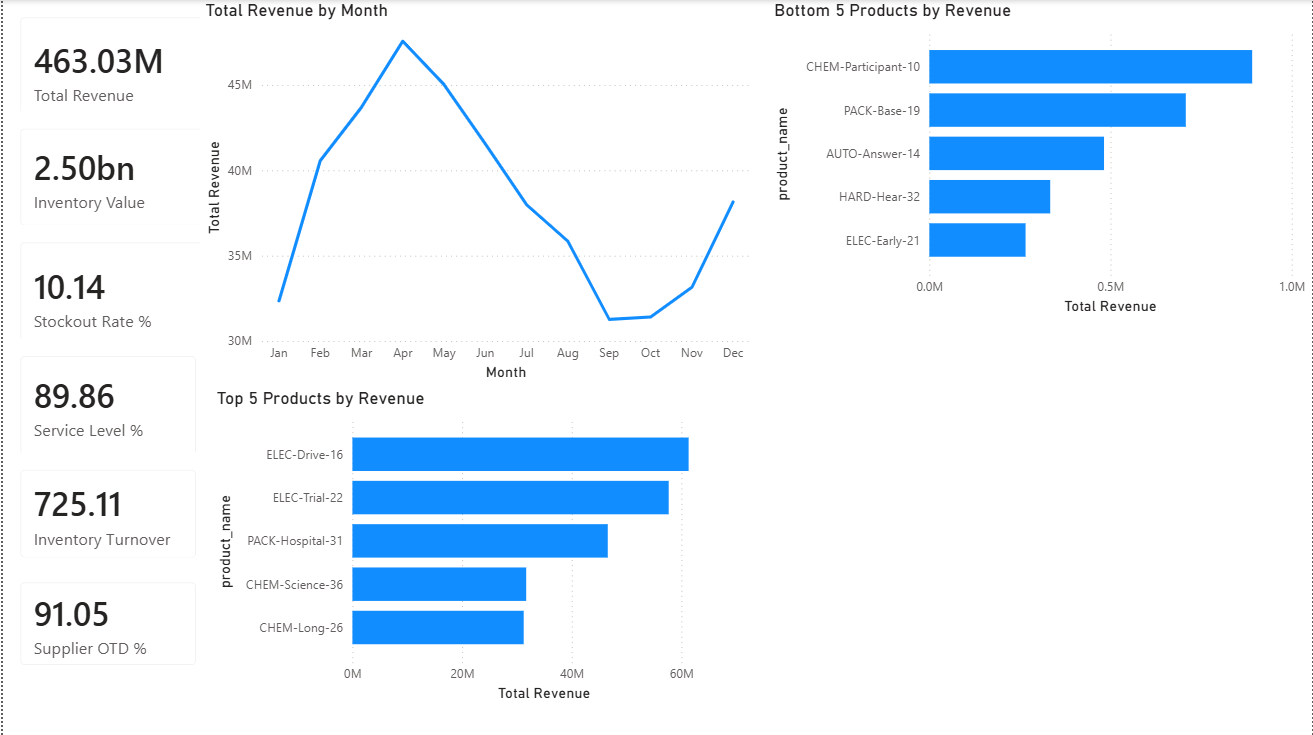

The dashboard page shown, as its layout file describes it:
{"tool":"powerbi","page":{"name":"Executive Overview","canvas":[1280,720],"ordinal":0},"visuals":[{"type":"cardVisual","fields":{"Data":["_Measures.Total Revenue"]},"box":[0,0,220.8,137.6],"z":0},{"type":"cardVisual","fields":{"Data":["_Measures.Inventory Value"]},"box":[0,109.4,220.8,129.6],"z":1000},{"type":"cardVisual","fields":{"Data":["_Measures.Stockout Rate %"]},"box":[0,219.7,221.1,140.6],"z":2000},{"type":"cardVisual","fields":{"Data":["_Measures.Service Level %"]},"box":[0,331,206.5,131.8],"z":3000},{"type":"cardVisual","fields":{"Data":["_Measures.Inventory Turnover"]},"box":[0,442.3,206.5,120.1],"z":4000},{"type":"cardVisual","fields":{"Data":["_Measures.Supplier OTD %"]},"box":[0,552.1,206.5,115.7],"z":5000},{"type":"lineChart","fields":{"Y":["_Measures.Total Revenue"],"Category":["DateTable.Month"]},"box":[193.6,0,542.4,377.6],"z":6000},{"type":"clusteredBarChart","title":"Top 5 Products by Revenue","fields":{"Category":["products.product_name"],"Y":["_Measures.Total Revenue"]},"box":[204.7,378.6,530.3,312.3],"z":7000},{"type":"clusteredBarChart","title":"Bottom 5 Products by Revenue","fields":{"Category":["products.product_name"],"Y":["_Measures.Total Revenue"]},"box":[749.7,0,530.3,312.3],"z":8000}]}

Visuals, with their boxes in screenshot pixels (x1, y1, x2, y2), scaled from the page's 1280x720 canvas onto the 1313x735 screenshot:
cardVisual - _Measures.Total Revenue: pyautogui.locateOnScreen(0, 0, 226, 140)
cardVisual - _Measures.Inventory Value: pyautogui.locateOnScreen(0, 112, 226, 244)
cardVisual - _Measures.Stockout Rate %: pyautogui.locateOnScreen(0, 224, 227, 368)
cardVisual - _Measures.Service Level %: pyautogui.locateOnScreen(0, 338, 212, 472)
cardVisual - _Measures.Inventory Turnover: pyautogui.locateOnScreen(0, 452, 212, 574)
cardVisual - _Measures.Supplier OTD %: pyautogui.locateOnScreen(0, 564, 212, 682)
lineChart - _Measures.Total Revenue x DateTable.Month: pyautogui.locateOnScreen(199, 0, 755, 385)
"Top 5 Products by Revenue" clusteredBarChart: pyautogui.locateOnScreen(210, 386, 754, 705)
"Bottom 5 Products by Revenue" clusteredBarChart: pyautogui.locateOnScreen(769, 0, 1312, 319)
